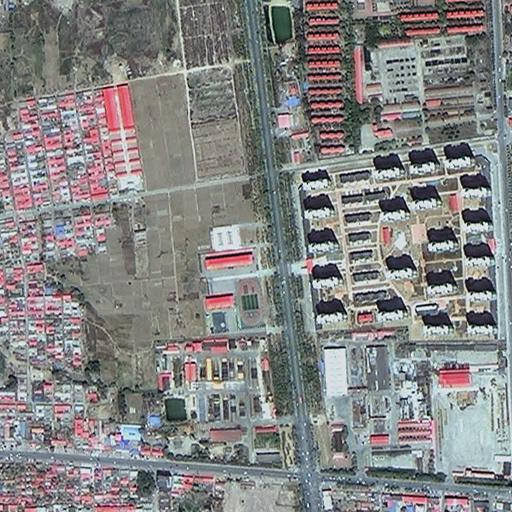school: (196, 249, 272, 337)
